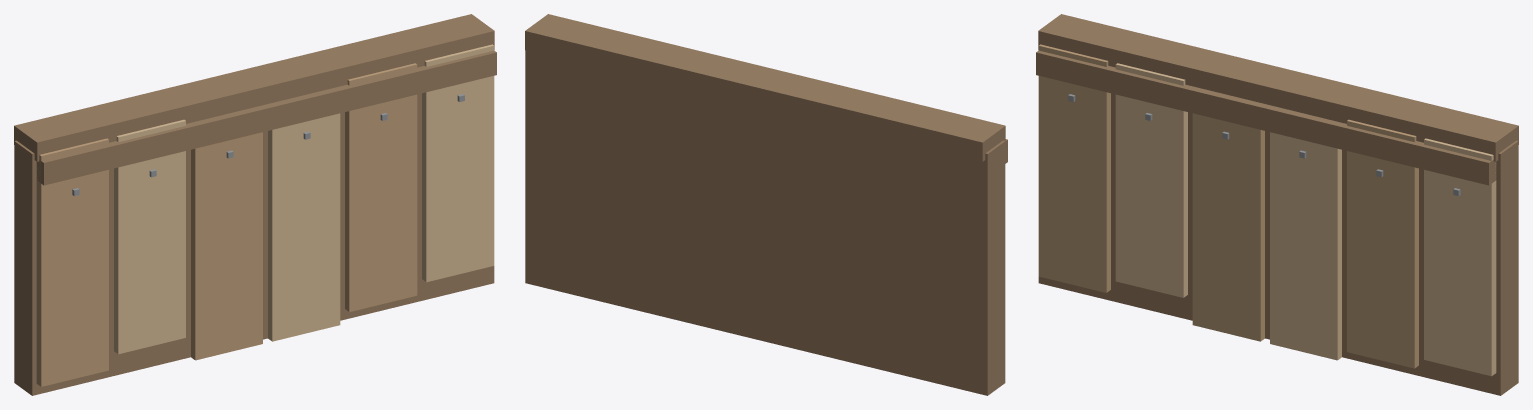
File: half_wall.glb
3 views of the same model, side by side, from view 1: azimuth 30°, elevation 25°; view 2: azimuth 150°, elevation 25°; view 3: azimuth 330°, elevation 25° (orthographic).
Parts seen in each view (by area): view 1: half_wall; view 2: half_wall; view 3: half_wall.
Part boxes in pixels (x1,y1,x2,y2): half_wall: (14, 14, 496, 395); half_wall: (525, 14, 1007, 395); half_wall: (1036, 14, 1518, 395).
Bounding box in the file's own units: 3 × 1.58 × 0.31.
